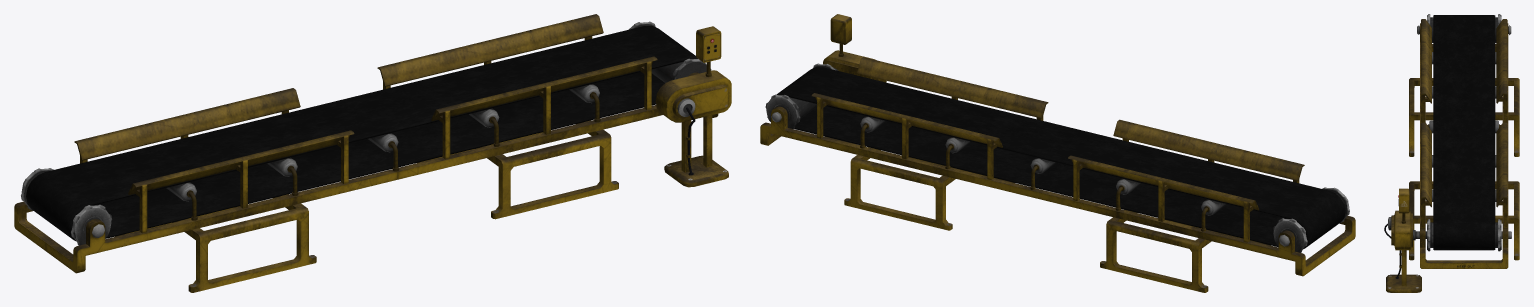
The model's file is factory_conveyer.glb.
The picture shows the model from 3 angles, left to right: view 1: azimuth 30°, elevation 25°; view 2: azimuth 150°, elevation 25°; view 3: azimuth 270°, elevation 25°; orthographic projection. The views are drawn at different scales.
Parts seen in each view (by area): view 1: Cube.007, Cylinder.003, Cylinder.002, Cylinder; view 2: Cylinder.003, Cube.007, Cylinder, Cylinder.002; view 3: Cylinder.003, Cube.007, Cylinder, Cylinder.002.
Part boxes in pixels (<box>): Cube.007: <box>14,14,731,292</box>; Cylinder.003: <box>26,26,697,240</box>; Cylinder.002: <box>21,168,111,245</box>; Cylinder: <box>629,21,711,82</box>; Cylinder.003: <box>776,67,1345,248</box>; Cube.007: <box>760,14,1355,292</box>; Cylinder: <box>765,63,835,128</box>; Cylinder.002: <box>1273,187,1349,252</box>; Cylinder.003: <box>1433,15,1495,250</box>; Cube.007: <box>1384,19,1519,292</box>; Cylinder: <box>1427,219,1501,251</box>; Cylinder.002: <box>1427,14,1501,42</box>.
Bounding box in the file's own units: 636 × 133 × 166.
Materials: 2 (2 with a texture image).
